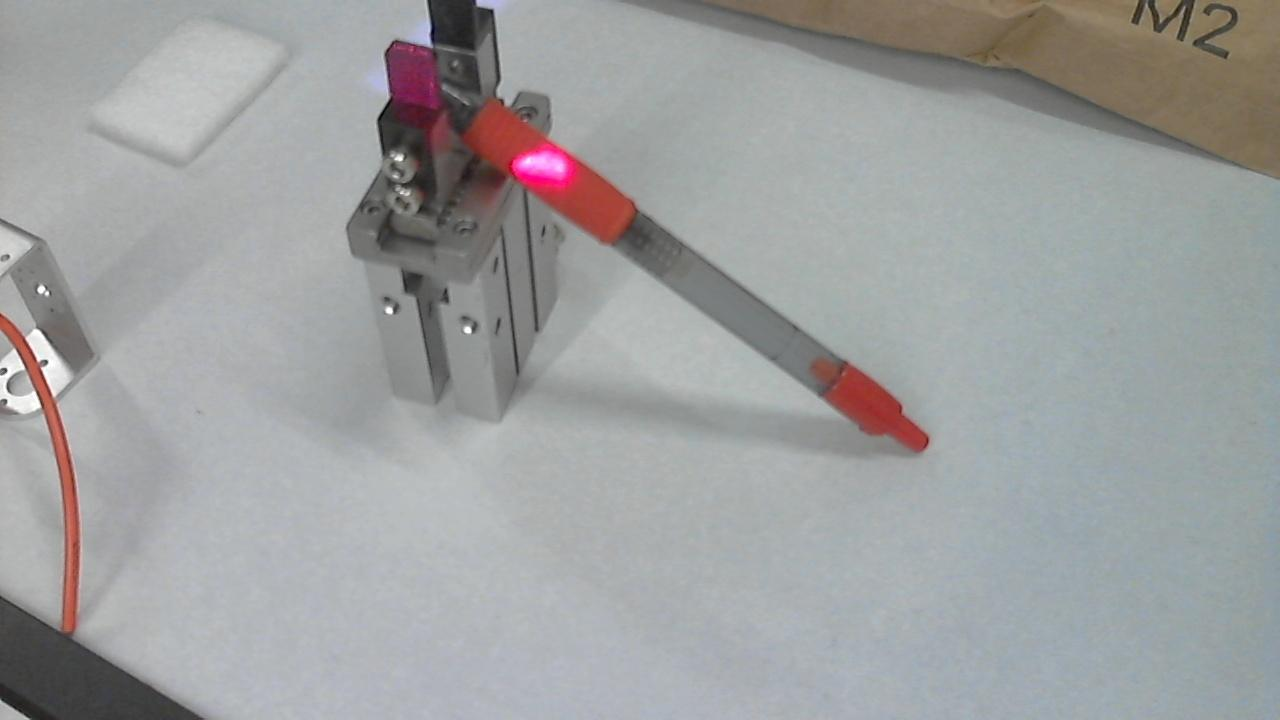Object ballpoint pen - Material rubber - Color red - Pdfname Tg2wygrqE5uZ: (494, 130, 596, 198)
